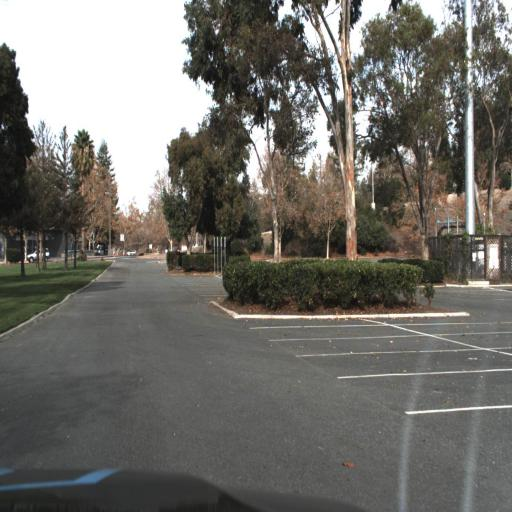car: (24, 241, 52, 266)
